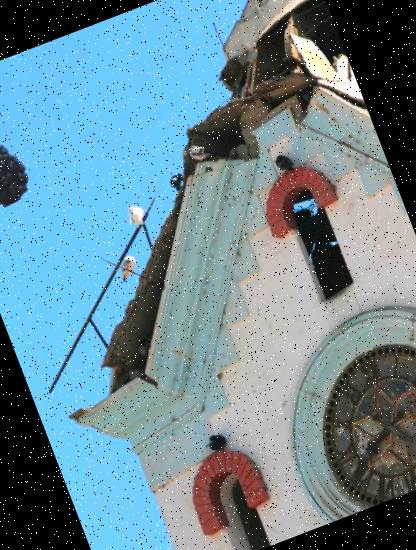Mulberry: (0, 126, 44, 216)
